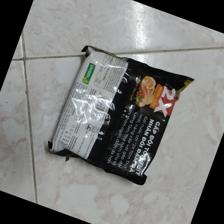3mien: (48, 45, 196, 186)
